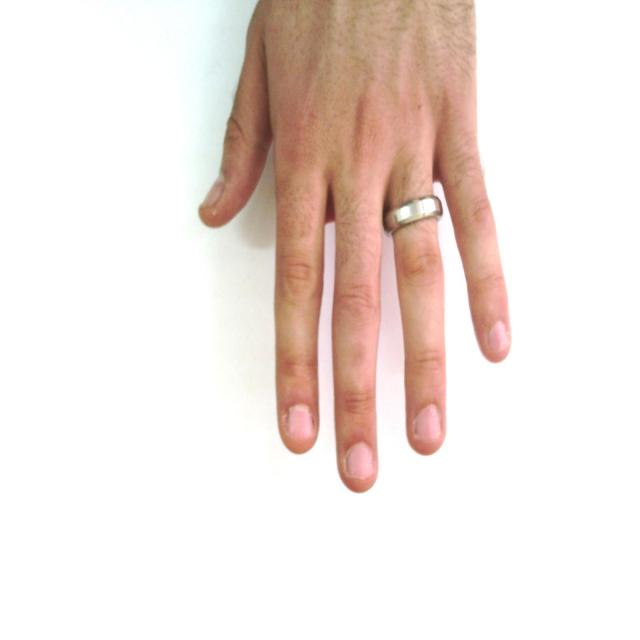others: (182, 0, 517, 488)
